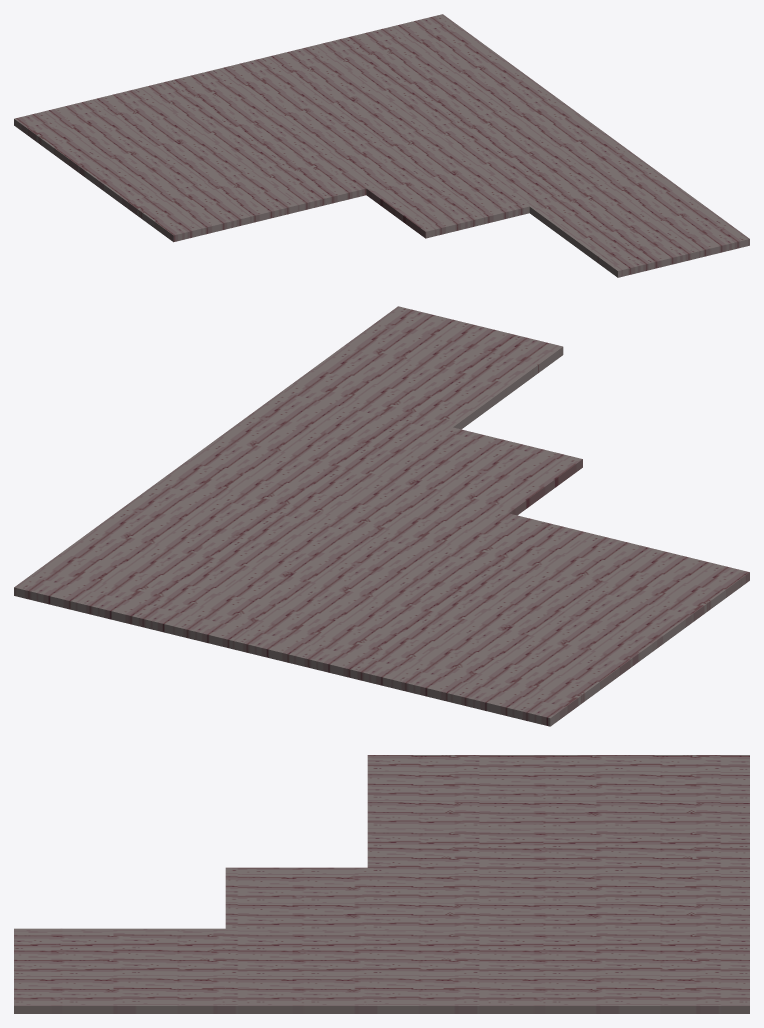
Rendered from Piso1Andar.fbx.
3 renders of one model, top to bottom at view 1: azimuth 30°, elevation 25°; view 2: azimuth 150°, elevation 25°; view 3: azimuth 270°, elevation 25°, orthographic. The views are drawn at different scales.
Visible parts, largest first — view 1: Piso1Andar; view 2: Piso1Andar; view 3: Piso1Andar.
Part boxes in pixels (box(x1,y1,x2,y2)): Piso1Andar: box(14, 14, 749, 277); Piso1Andar: box(14, 306, 749, 726); Piso1Andar: box(14, 755, 749, 1013).
Bounding box in the file's own units: 1502 × 1863 × 22.53.
